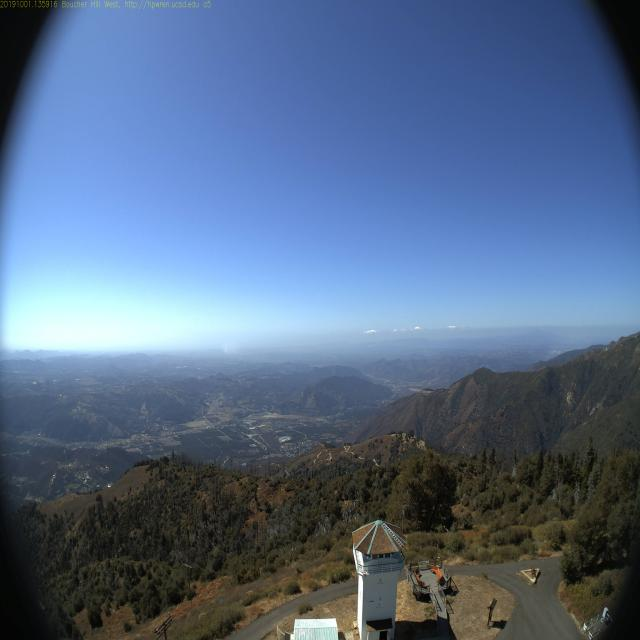smoke: (220, 337, 239, 355)
